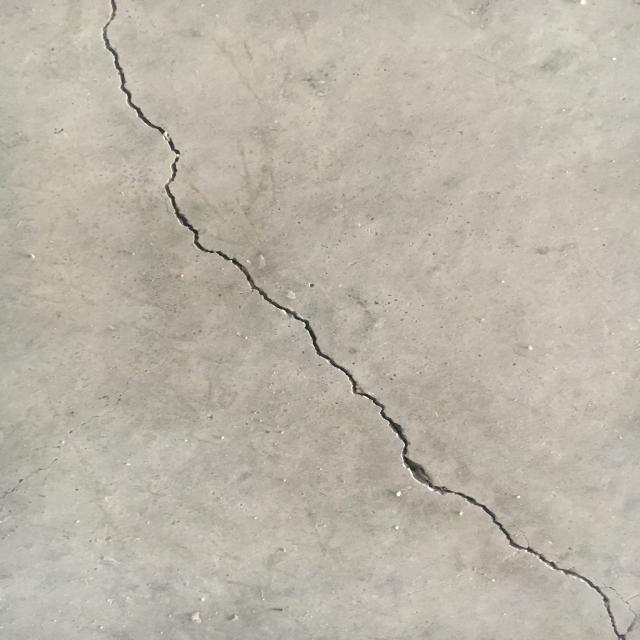Rachadura: (96, 0, 637, 640)
